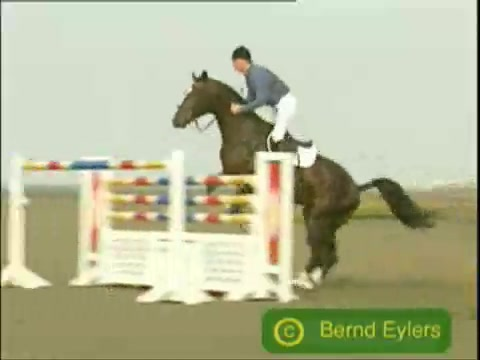horse: (173, 71, 438, 292)
